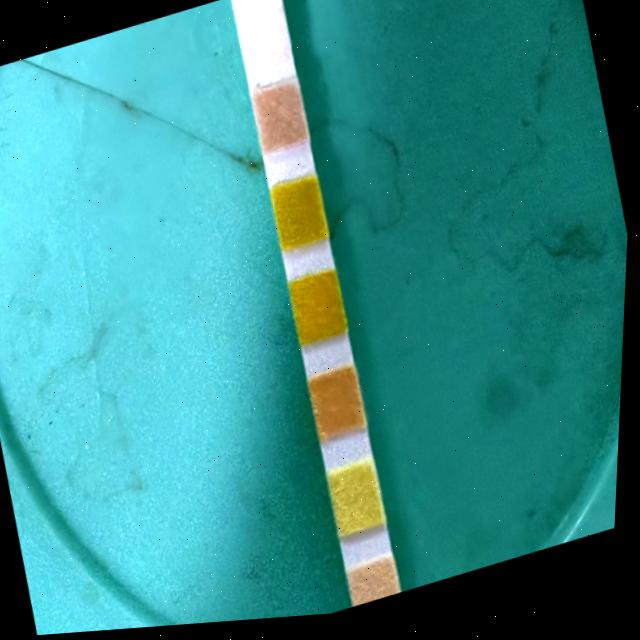Bilirubin: (231, 0, 290, 60)
Blood: (291, 277, 349, 347)
Ketone: (251, 83, 309, 156)
Protein: (330, 467, 390, 539)
SpGravity: (271, 180, 330, 253)
Urobilinogen: (352, 564, 405, 612)
pH: (310, 373, 369, 443)
